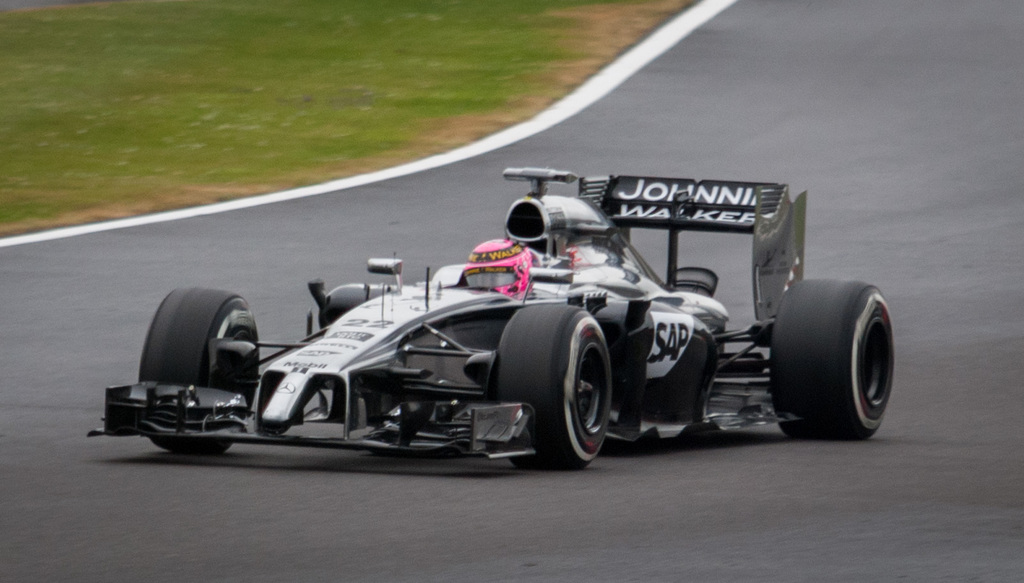Car: (117, 184, 949, 477)
